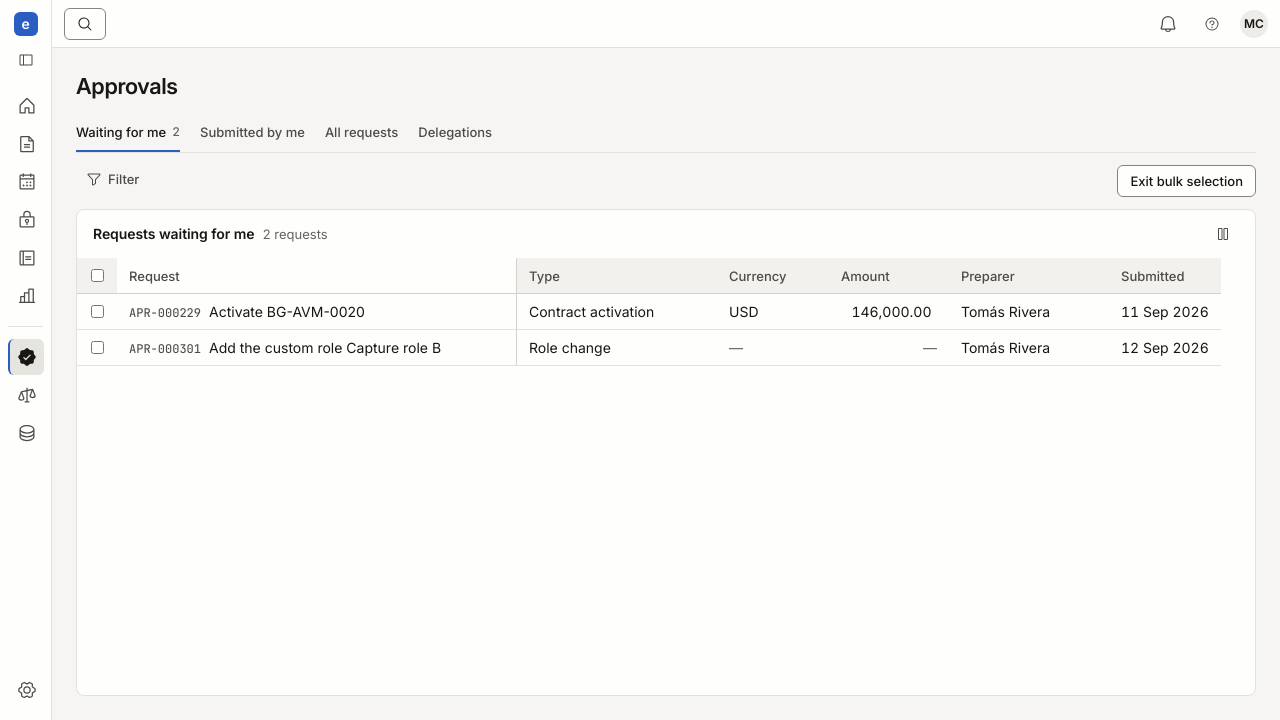
SF-12 bulk approval › when every item is approved a toast says so and the selection ends
Click the checkbox named "Select loaded rows". click: (97, 276)
box: [90,269,104,282]
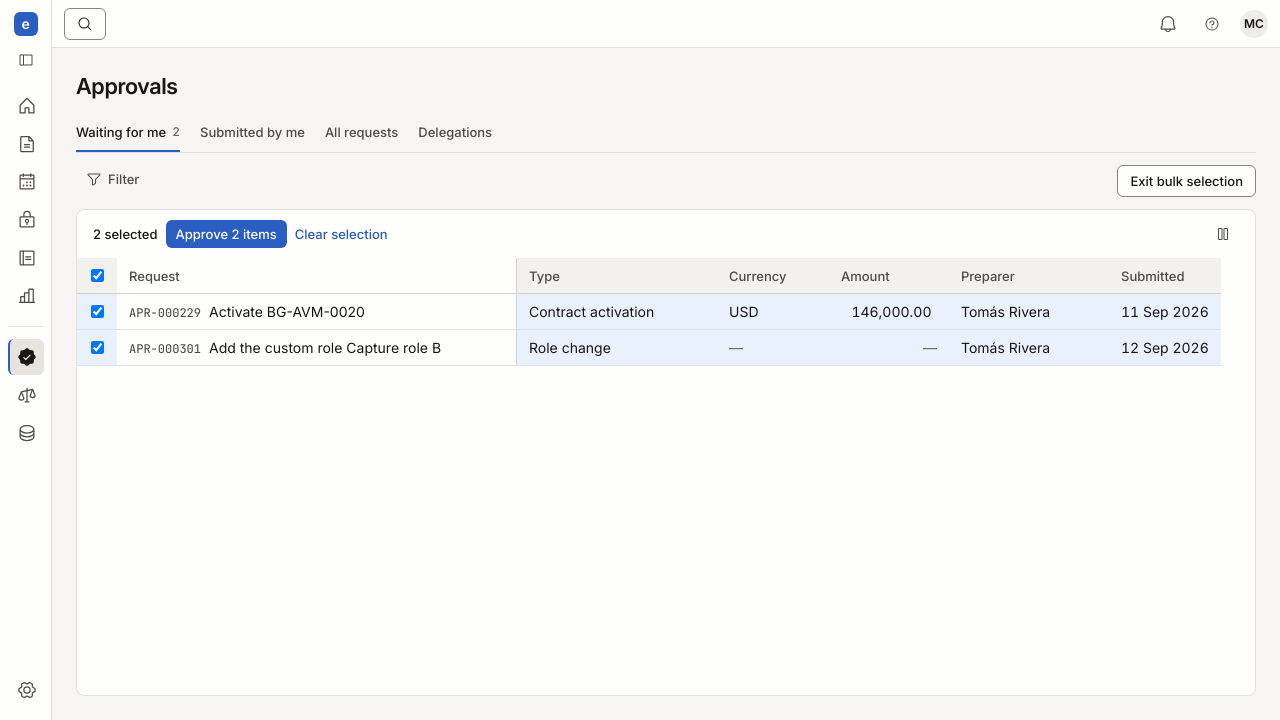
Click the button "Approve 2 items". click: (226, 234)
box: [166,220,287,248]
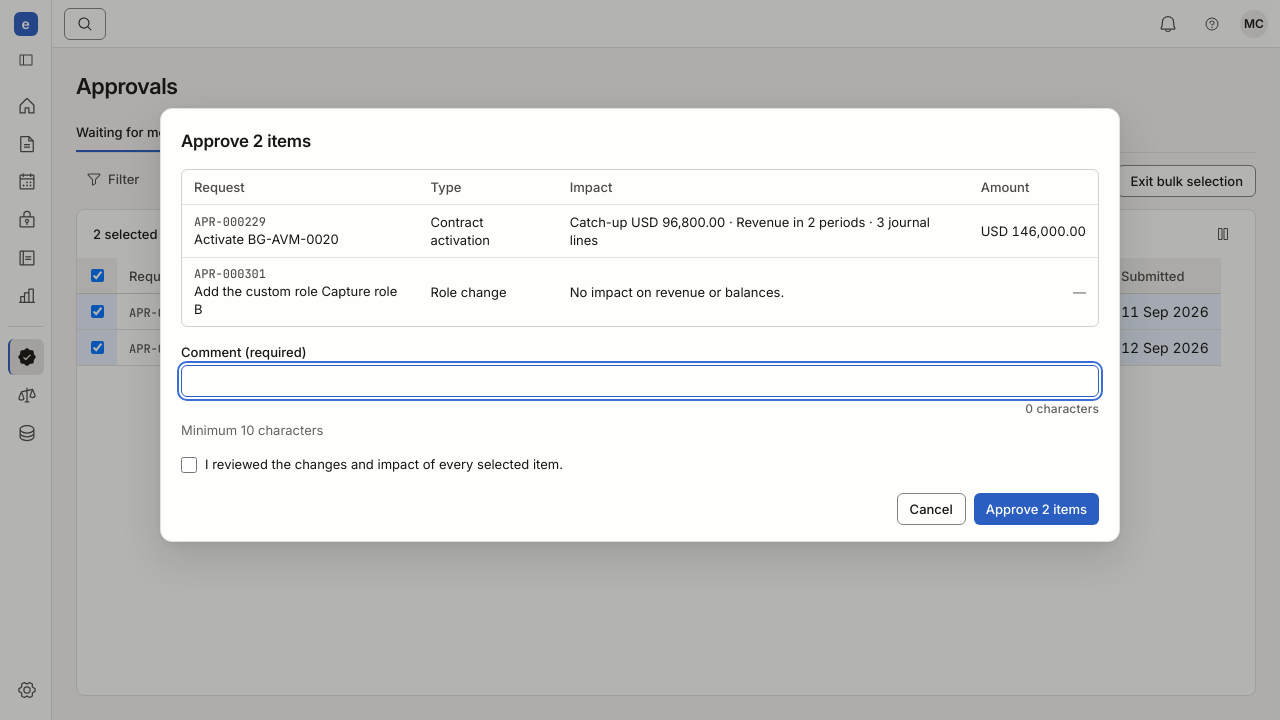
Type "Both roles reviewed." into the text box labelled "Comment (required)". click: (640, 381)
box: [181,365,1099,397]
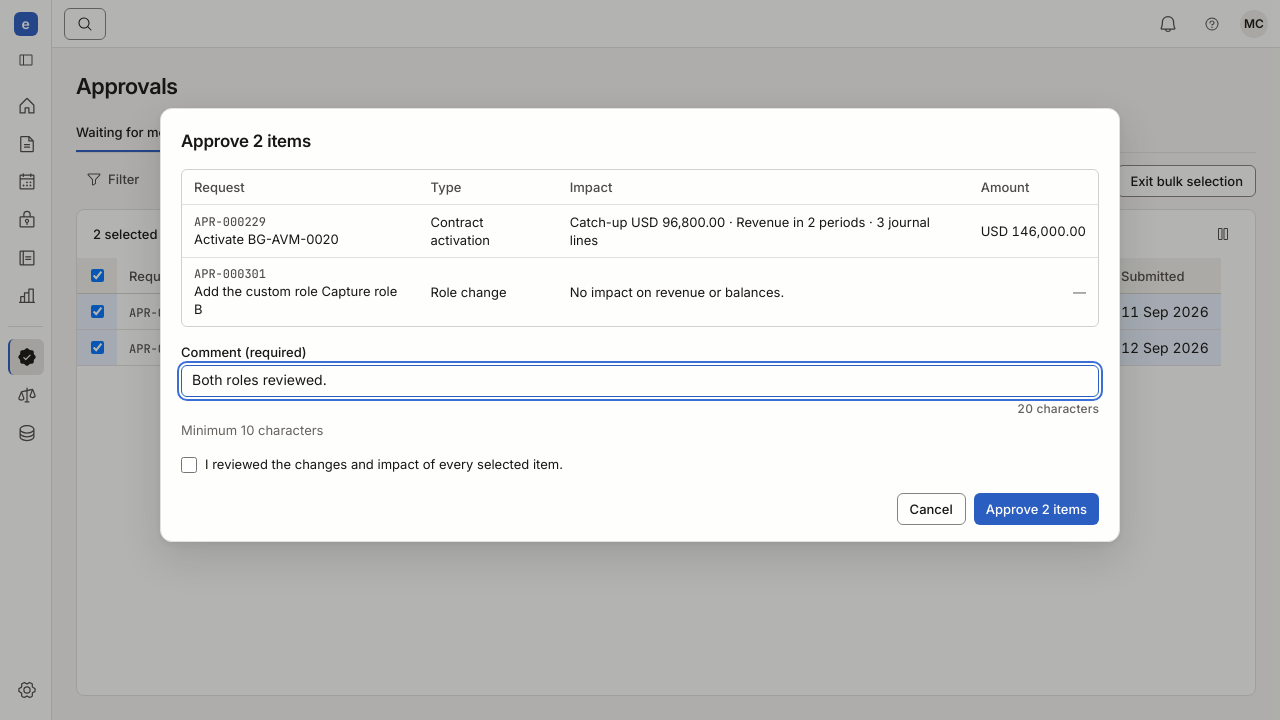
Click the checkbox labelled "I reviewed the changes and impact of every selected item.". click: (189, 465)
box: [181,457,197,473]
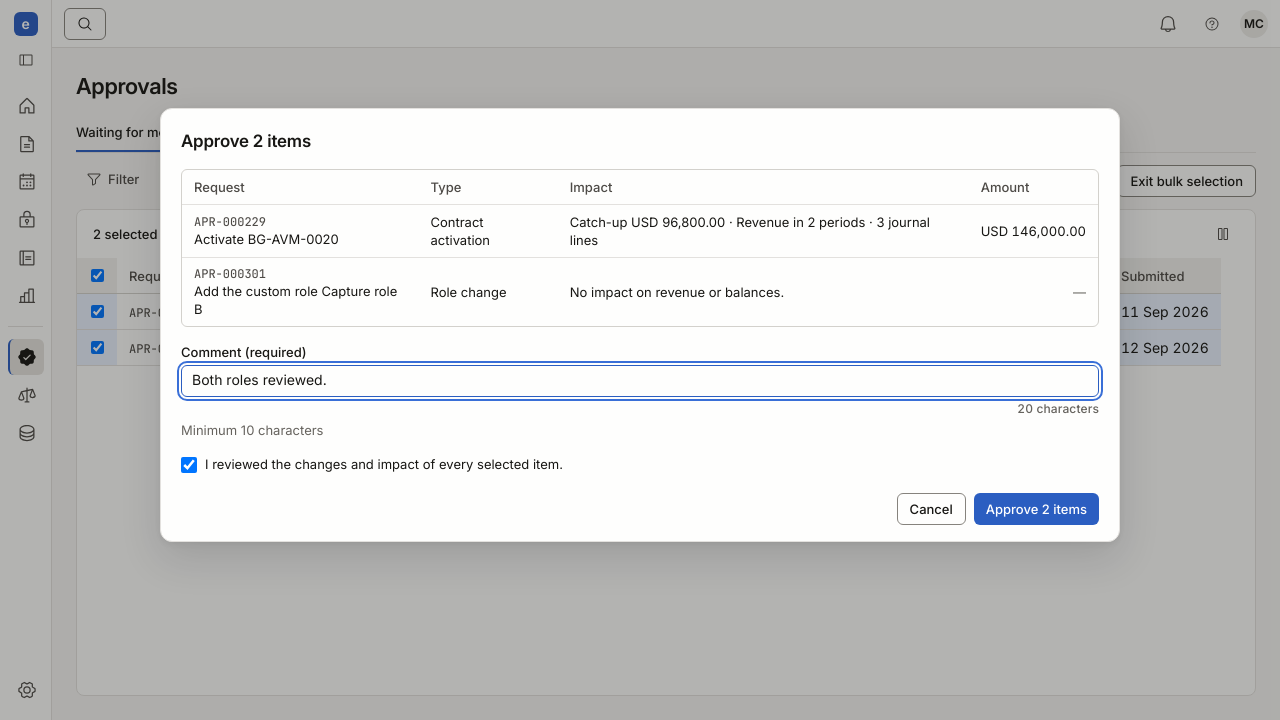
Click the button "Approve 2 items". click: (1036, 509)
box: [974,493,1099,525]
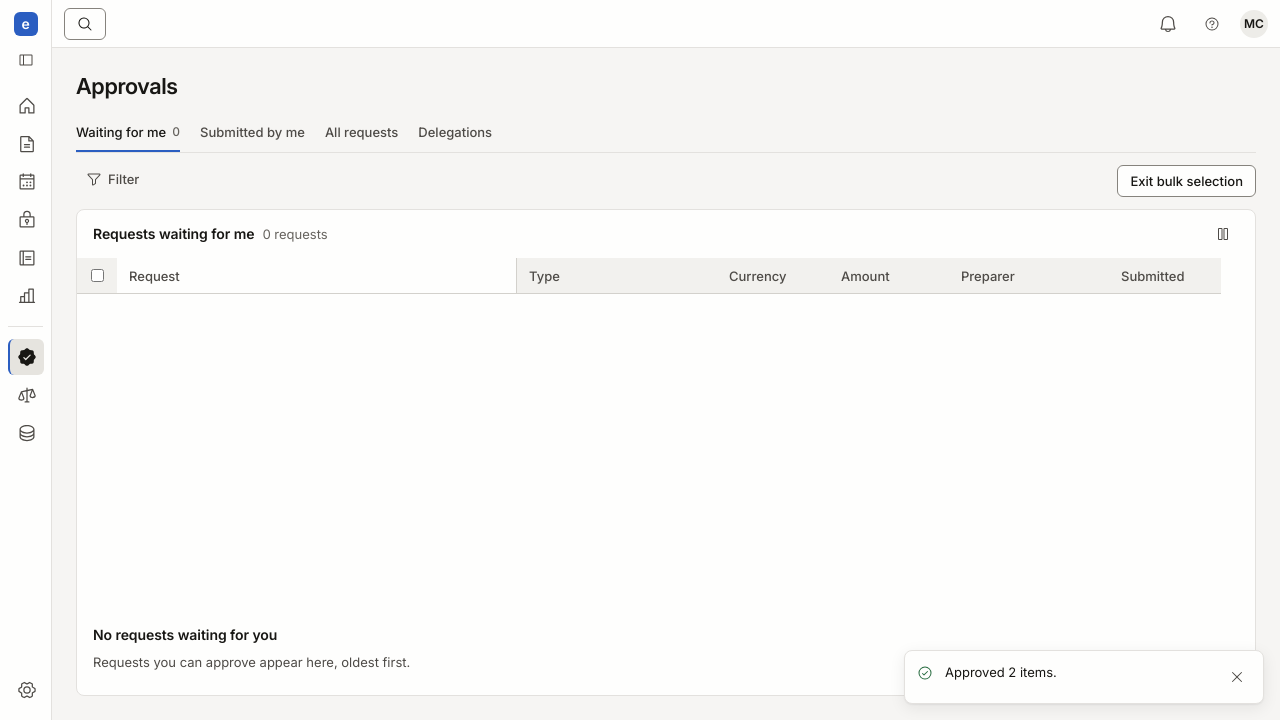
Result: the text "Approved 2 items." is shown at [945,663,1057,681]
Result: the dialog is gone
Result: the heading "No requests waiting for you" is shown at [93,625,277,645]
